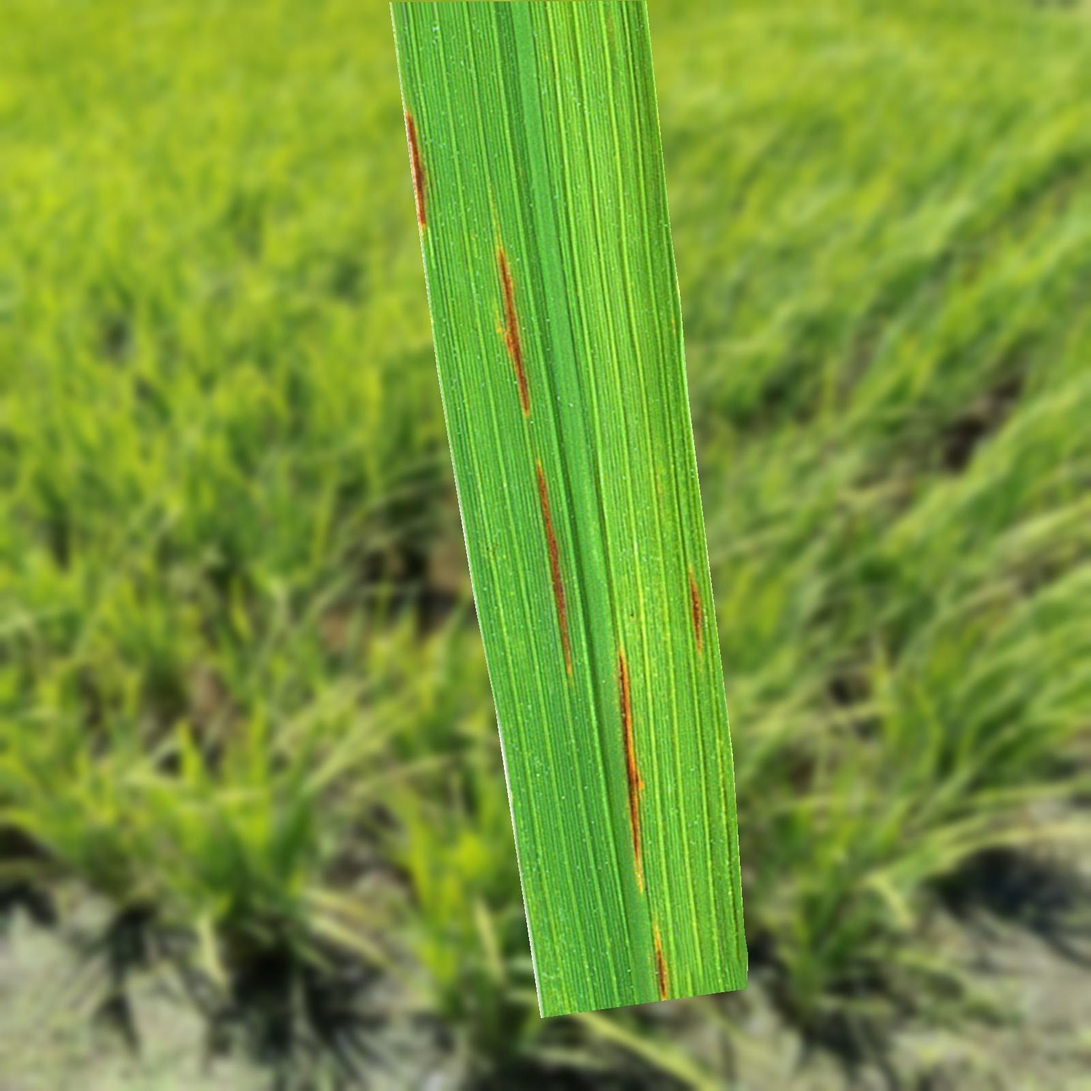LEAF: (390, 1, 748, 1018)
NBS: (537, 460, 572, 674), (618, 649, 644, 893), (497, 246, 528, 416), (406, 110, 425, 231), (690, 566, 702, 653), (656, 930, 667, 999)
